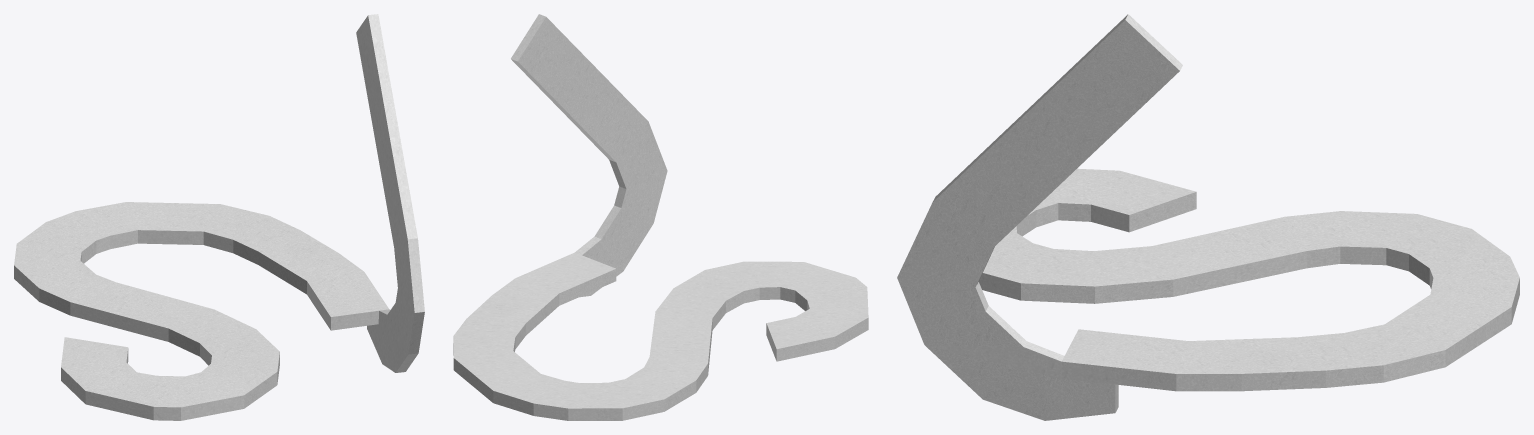
Rendered from Les_systeme.gltf.
3 views of the same model, side by side, from view 1: azimuth 30°, elevation 25°; view 2: azimuth 150°, elevation 25°; view 3: azimuth 270°, elevation 25° (orthographic). The views are drawn at different scales.
Parts seen in each view (by area): view 1: Les_systèmes; view 2: Les_systèmes; view 3: Les_systèmes.
Part boxes in pixels (left/top/right/bottom): Les_systèmes: left=14, top=14, right=424, bottom=420; Les_systèmes: left=453, top=14, right=868, bottom=420; Les_systèmes: left=897, top=14, right=1519, bottom=420.
Size of the model in its own units: 31.71 by 29.14 by 39.92.
Materials: 1 (1 with a texture image).
